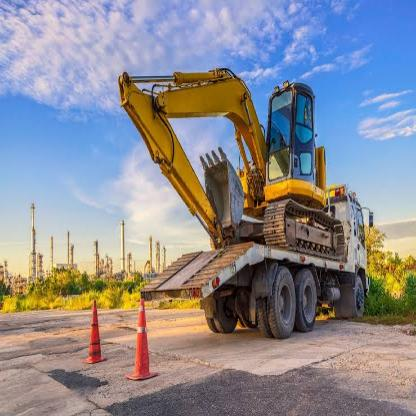excavator: (119, 42, 375, 258)
